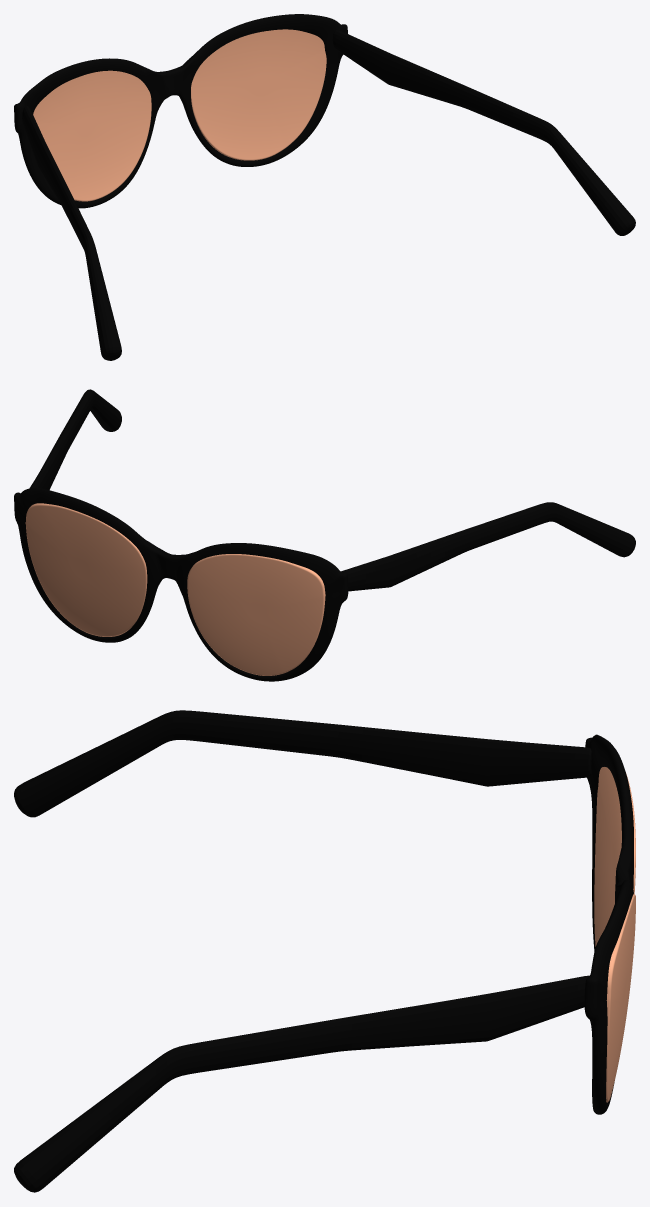
The model's file is cateye_sunglasses.fbx.
The picture shows the model from 3 angles, top to bottom: view 1: azimuth 30°, elevation 25°; view 2: azimuth 150°, elevation 25°; view 3: azimuth 270°, elevation 25°; orthographic projection. The views are drawn at different scales.
Visible parts, largest first — view 1: frame.002; view 2: frame.002; view 3: frame.002.
Boxes of the visible parts, x1,y1,x2,y2 form: frame.002: (14, 14, 635, 360); frame.002: (14, 389, 635, 681); frame.002: (14, 710, 635, 1192).
Bounding box in the file's own units: 20.03 × 5.09 × 13.52.
